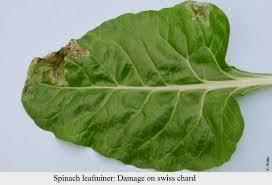Bok-Choy-Diseased: (15, 4, 272, 170)
